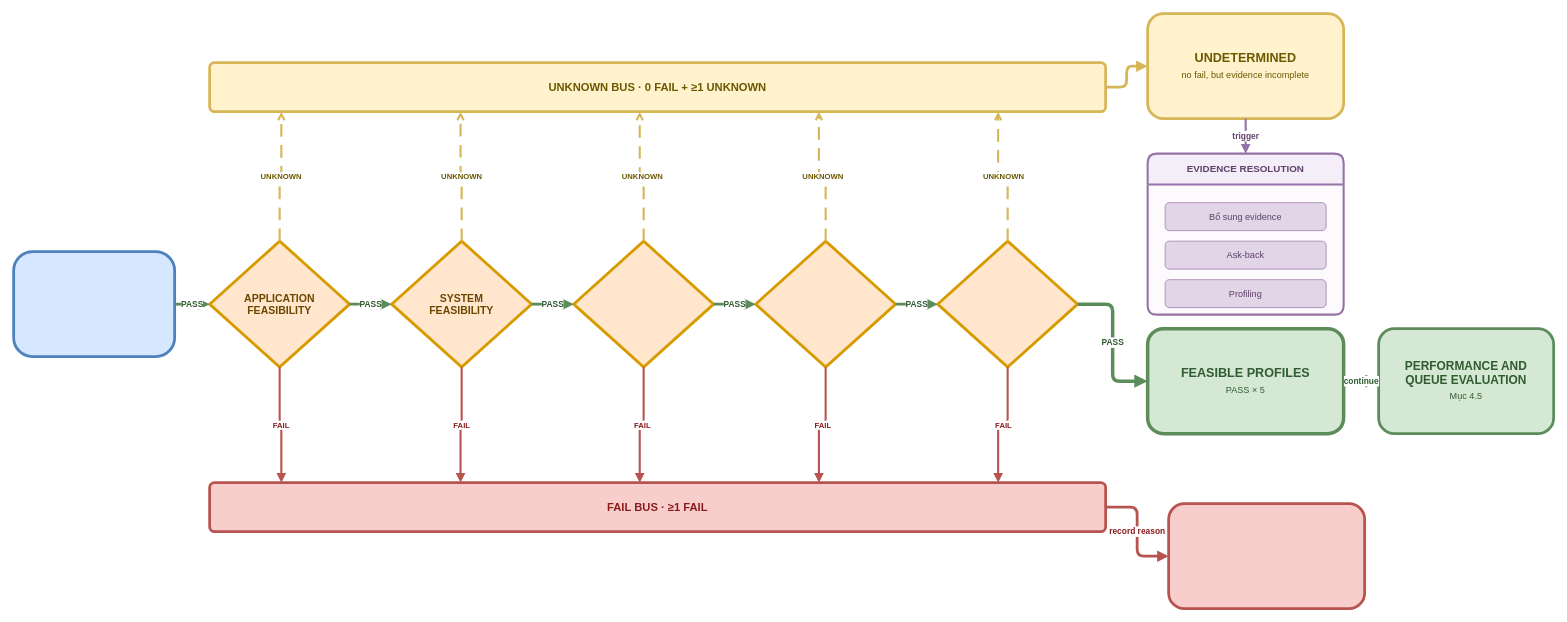
Image size: 1567x622. Some labels were removed from this diagram. Each missing label, with the centre of its shape:
"CANDIDATE PROFILES from candidate generator" belongs at point (94, 304).
"INFEASIBLE profile + reason for rejection" belongs at point (1266, 556).
"INTENT FEASIBILITY" belongs at point (1007, 303).
"POLICY FEASIBILITY" belongs at point (643, 303).
"QUOTA FEASIBILITY" belongs at point (825, 303).
